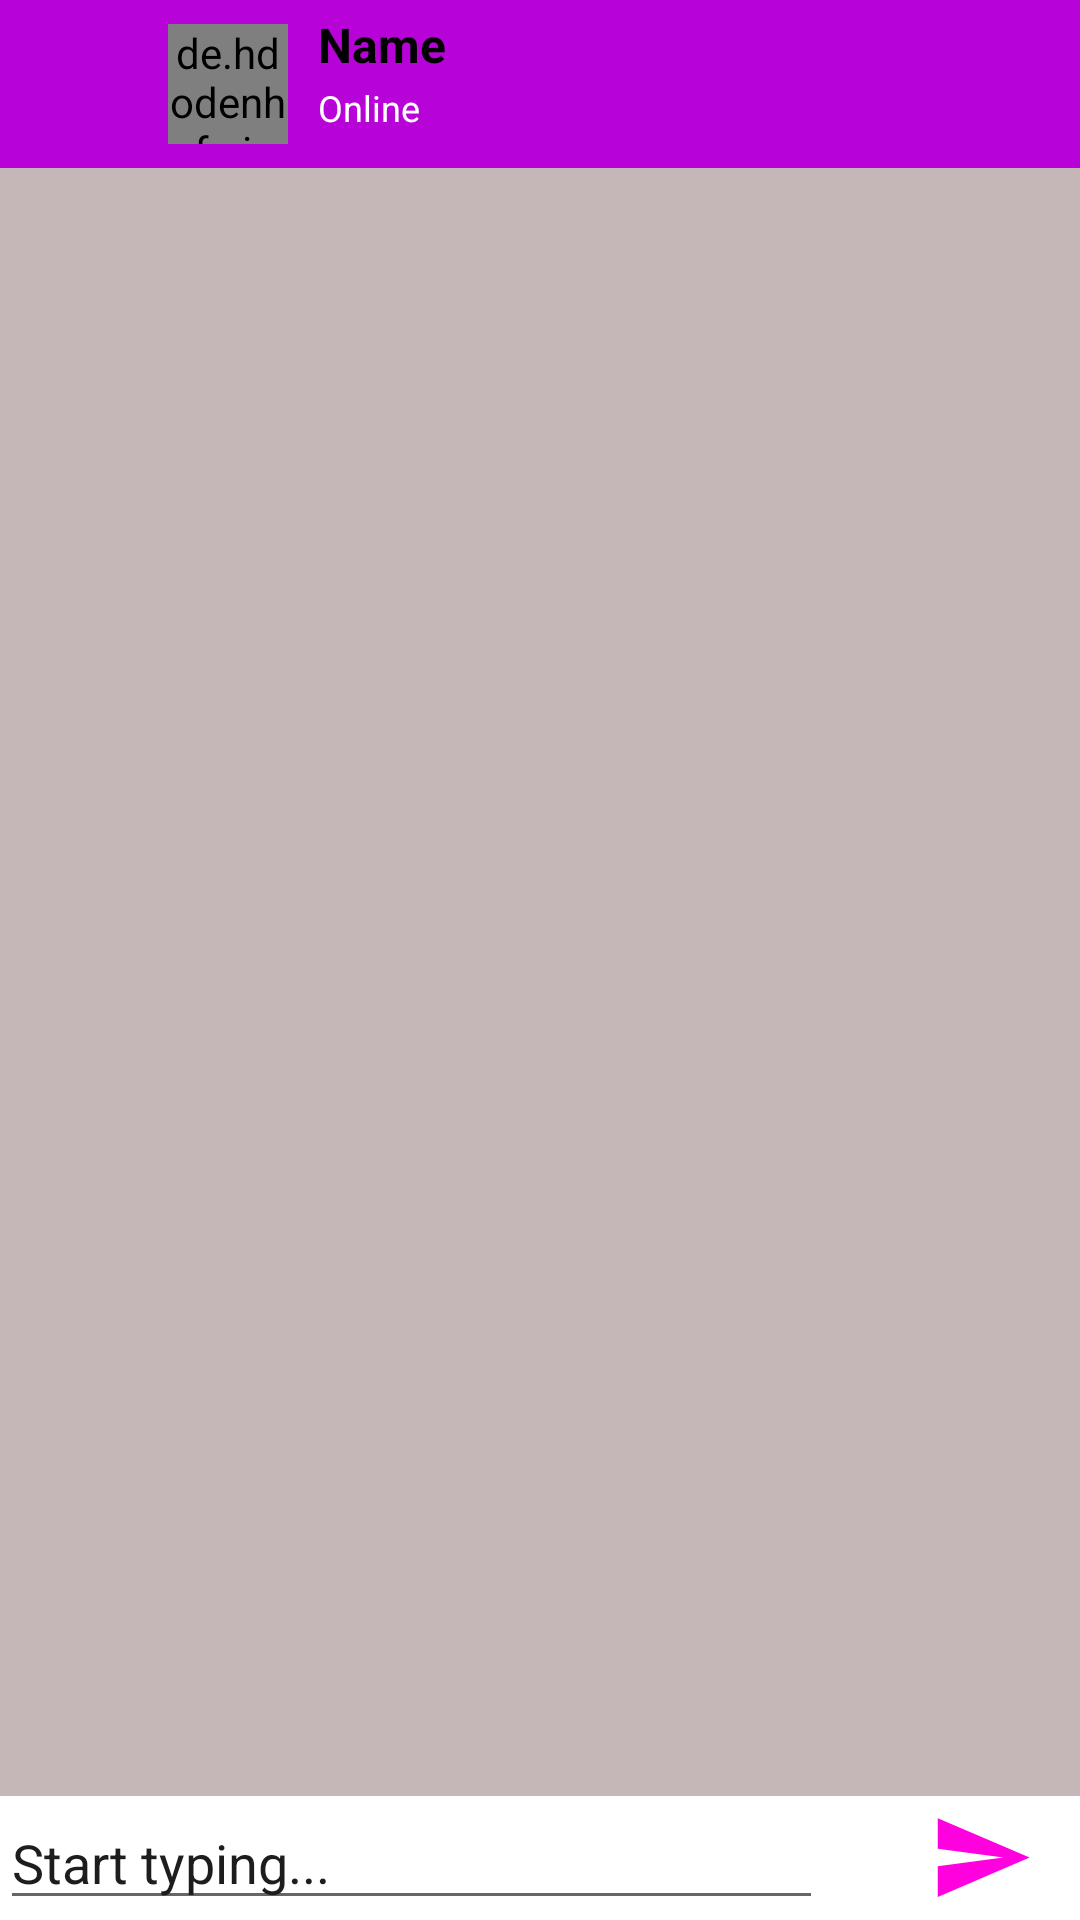

Screen size 1080px×1920px. Icon name, then its center in pixels as (x=x, y=y):
send: (x=983, y=1857)
